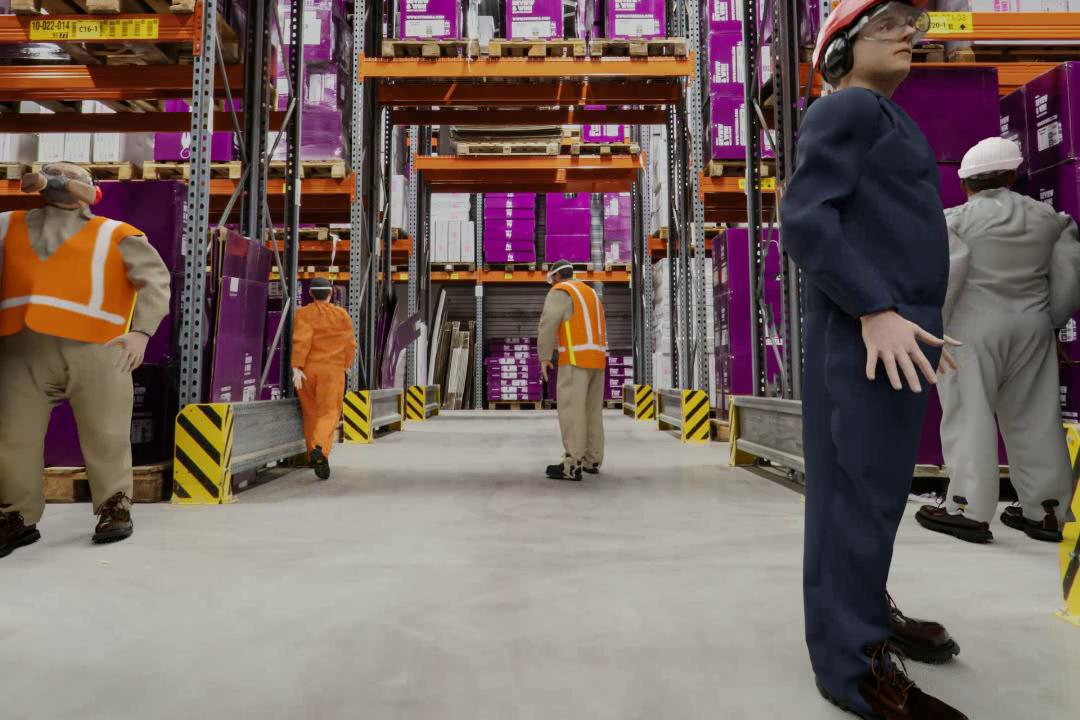Goggles: (853, 9, 938, 39), (41, 164, 96, 185), (544, 265, 578, 276), (304, 283, 335, 293)
Helmet: (957, 134, 1039, 182)
Jacket: (2, 207, 141, 340), (552, 281, 609, 368)
Shoes: (813, 660, 974, 720), (886, 609, 957, 662), (909, 503, 990, 549), (999, 498, 1059, 543), (86, 497, 137, 548), (0, 507, 39, 561), (544, 461, 584, 480), (308, 456, 334, 483), (585, 465, 601, 476)
